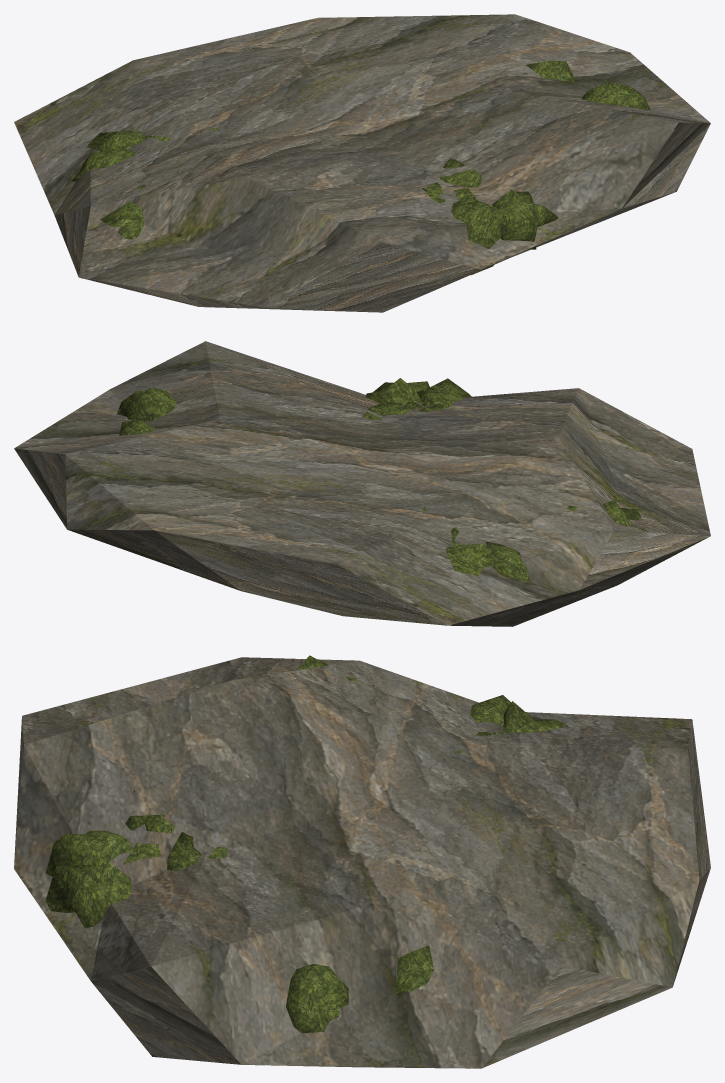
Rendered from rocky_hill_a.gltf.
3 views of the same model, one above another, from view 1: azimuth 30°, elevation 25°; view 2: azimuth 150°, elevation 25°; view 3: azimuth 270°, elevation 25° (orthographic). The views are drawn at different scales.
Parts seen in each view (by area): view 1: rocky_hill_a_game; view 2: rocky_hill_a_game; view 3: rocky_hill_a_game.
Boxes of the visible parts, left/top/right/bottom form: rocky_hill_a_game: left=14, top=14, right=710, bottom=312; rocky_hill_a_game: left=14, top=341, right=710, bottom=626; rocky_hill_a_game: left=14, top=655, right=710, bottom=1068.
Bounding box in the file's own units: 1.42 × 0.2661 × 1.01.
Materials: 2 (2 with a texture image).
